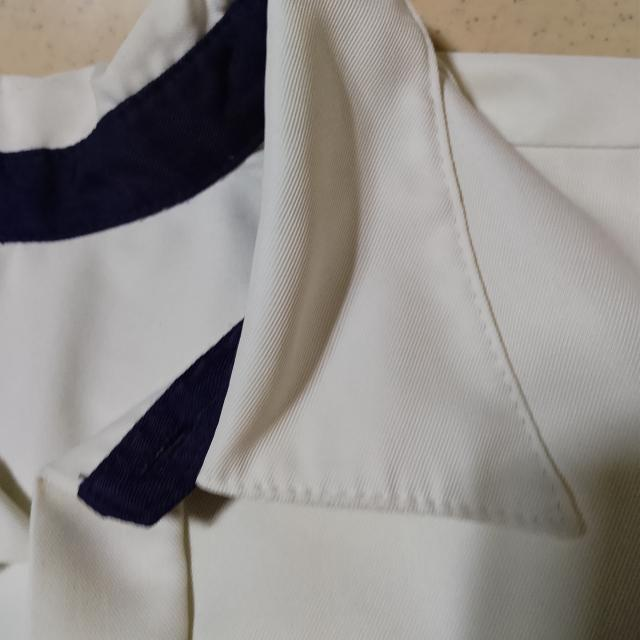education_male_uniform: (264, 2, 634, 582), (0, 0, 260, 620)
